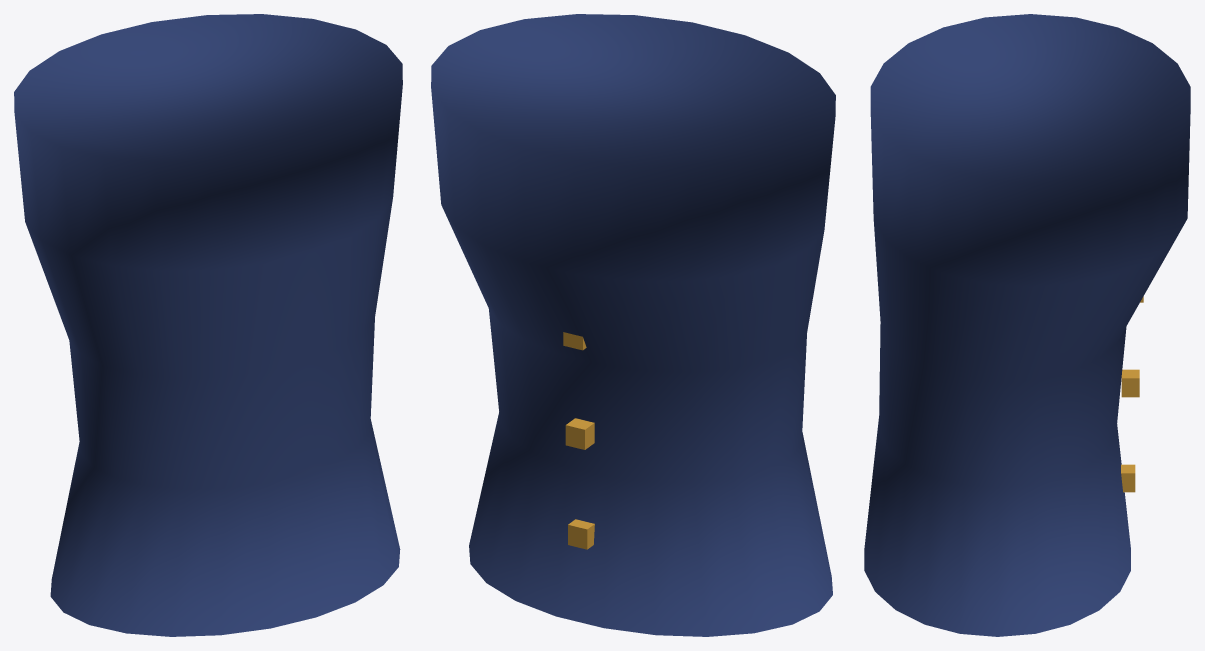
Rendered from anime_vest.glb.
The picture shows the model from 3 angles, left to right: view 1: azimuth 30°, elevation 25°; view 2: azimuth 150°, elevation 25°; view 3: azimuth 270°, elevation 25°; orthographic projection. The views are drawn at different scales.
Visible parts, largest first — view 1: vest; view 2: vest, button.001, button; view 3: vest, button.001.
Part boxes in pixels (x1,y1,x2,y2): vest: [14, 14, 402, 636]; vest: [431, 14, 835, 636]; button.001: [565, 418, 594, 449]; button: [568, 519, 594, 549]; vest: [864, 14, 1190, 636]; button.001: [1121, 369, 1139, 397].
Bounding box in the file's own units: 0.268 × 0.34 × 0.218.
